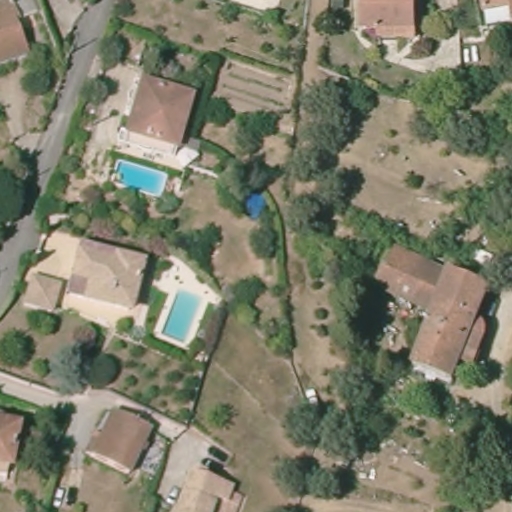pool: (158, 281, 207, 352), (108, 156, 169, 201)
